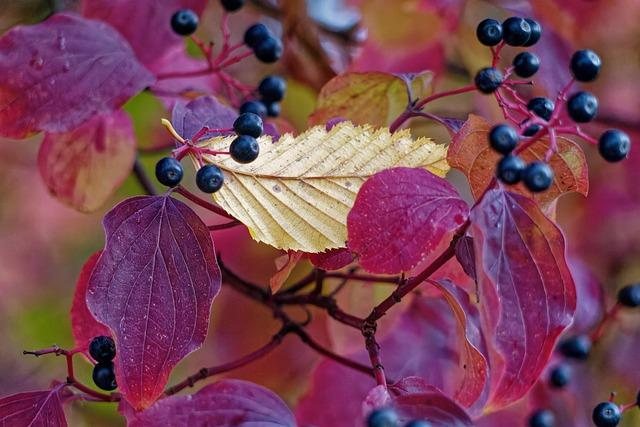Non_Gorille: (51, 3, 572, 425)
